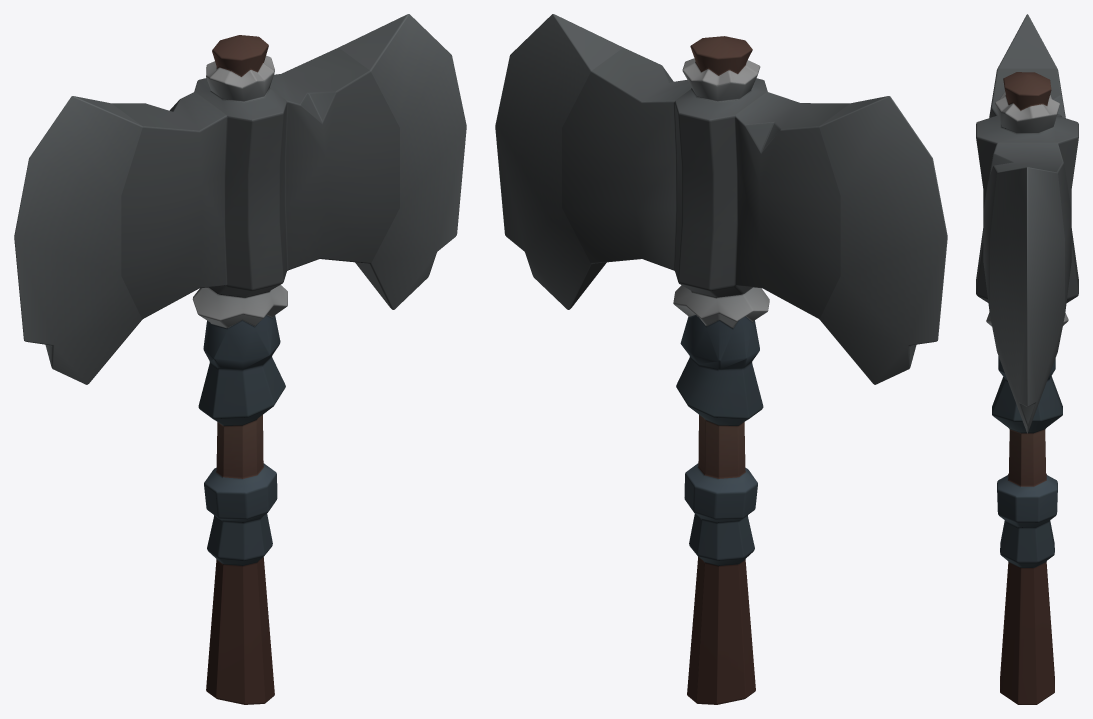
File: axe_3.glb
3 views of the same model, side by side, from view 1: azimuth 30°, elevation 25°; view 2: azimuth 150°, elevation 25°; view 3: azimuth 270°, elevation 25° (orthographic). The views are drawn at different scales.
Parts seen in each view (by area): view 1: axe_3; view 2: axe_3; view 3: axe_3.
Boxes of the visible parts, x1=… form: axe_3: x1=14, y1=14, x2=466, y2=704; axe_3: x1=495, y1=14, x2=947, y2=704; axe_3: x1=976, y1=14, x2=1078, y2=704.
Bounding box in the file's own units: 0.9308 × 1.3 × 0.1963.
1 material, 1 textured.
